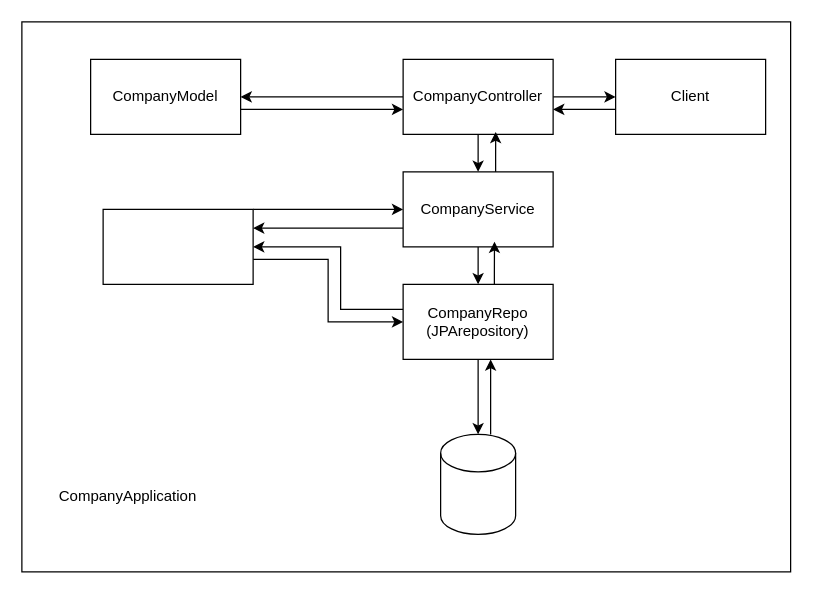
Some shapes in this 813 by 594 pixel diagram are drawn without their labels. Here are the shapes that lost their labels. From the top down, the box of each, then its label:
(102, 208, 253, 284): CompanyEntity
(439, 433, 516, 534): companyDB
